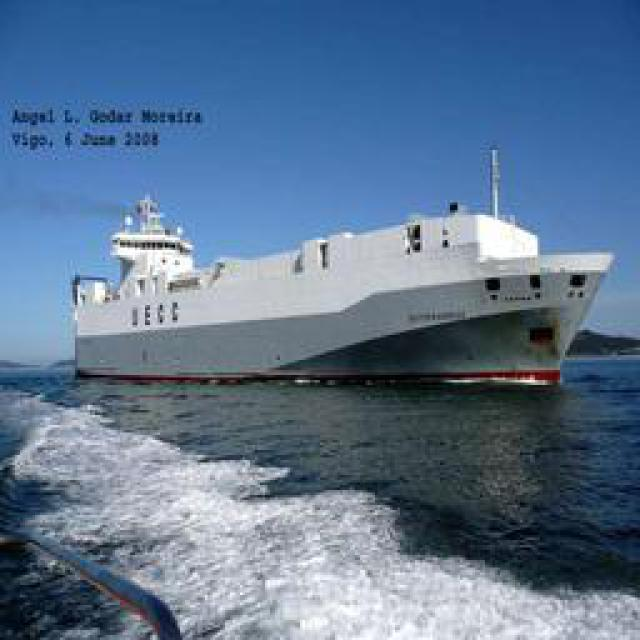Ship: (71, 150, 616, 391)
